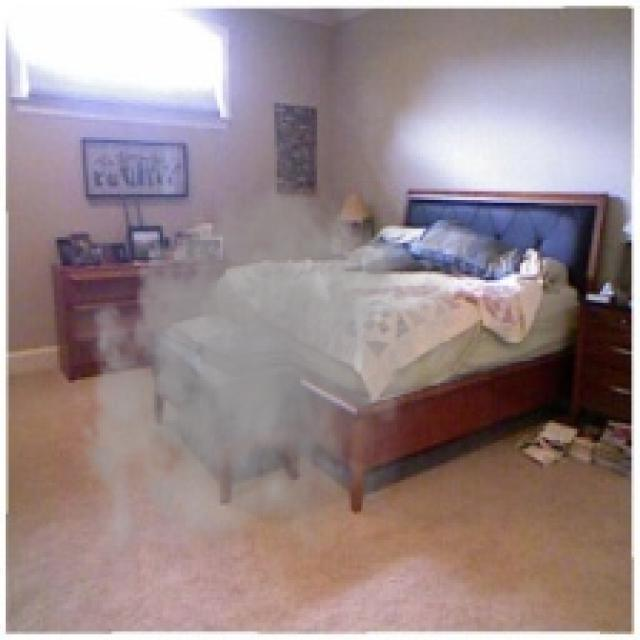Smoke: (62, 166, 472, 583)
